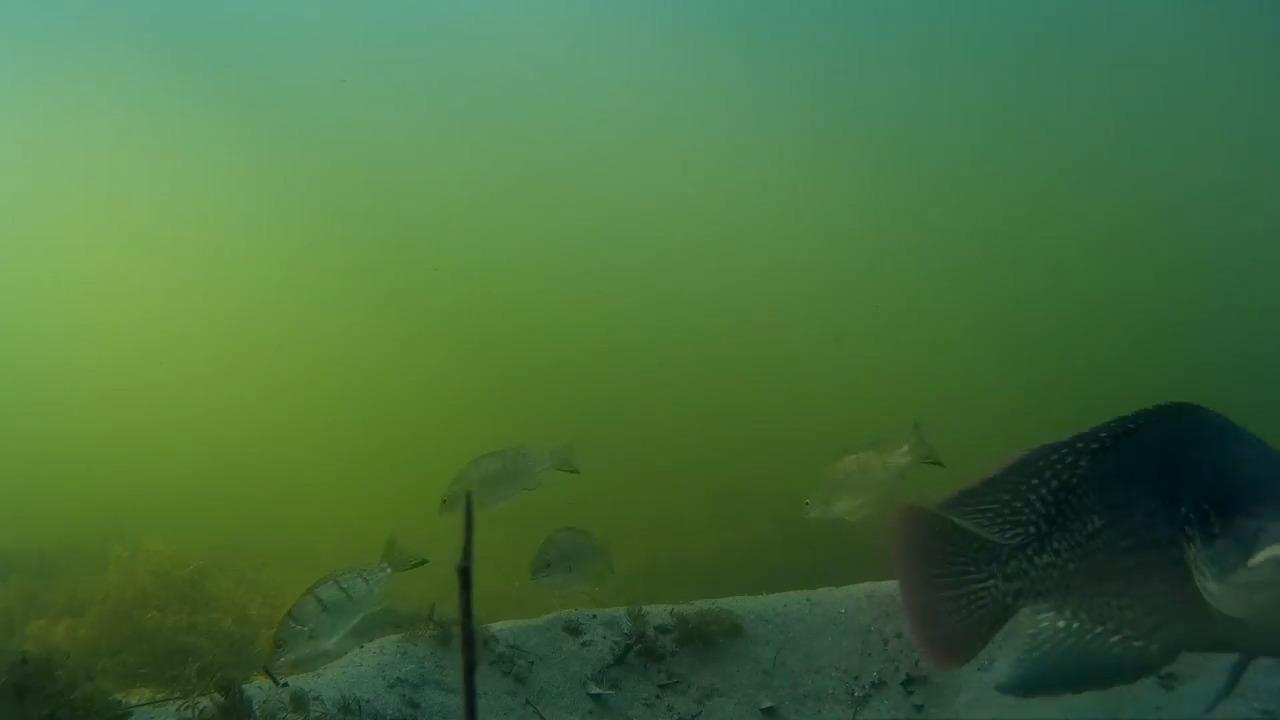Tilapia: (922, 397, 1280, 713), (266, 543, 437, 703), (795, 418, 942, 536), (437, 424, 576, 510), (520, 516, 629, 612)
